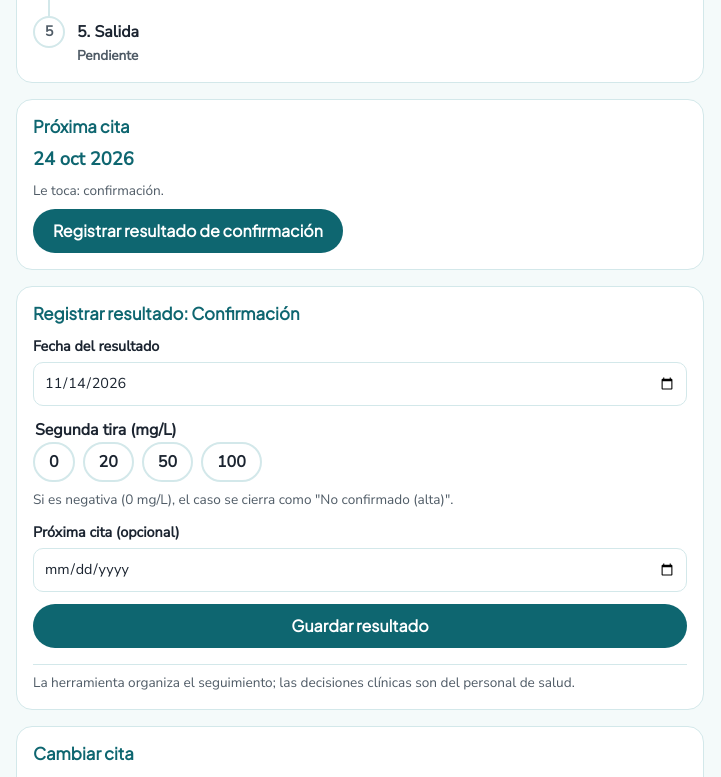
Ficha: ruta del caso, próxima cita y recordatorio › la línea de tiempo se actualiza al cerrar el caso con alta
(page scrolled)
Expected: the heading "Registrar resultado: Confirmación" is shown, 33,303 -> 300,324
Type "2026-11-01" into the date field labelled "Fecha del resultado" at (360, 384), box 33,362 -> 687,406
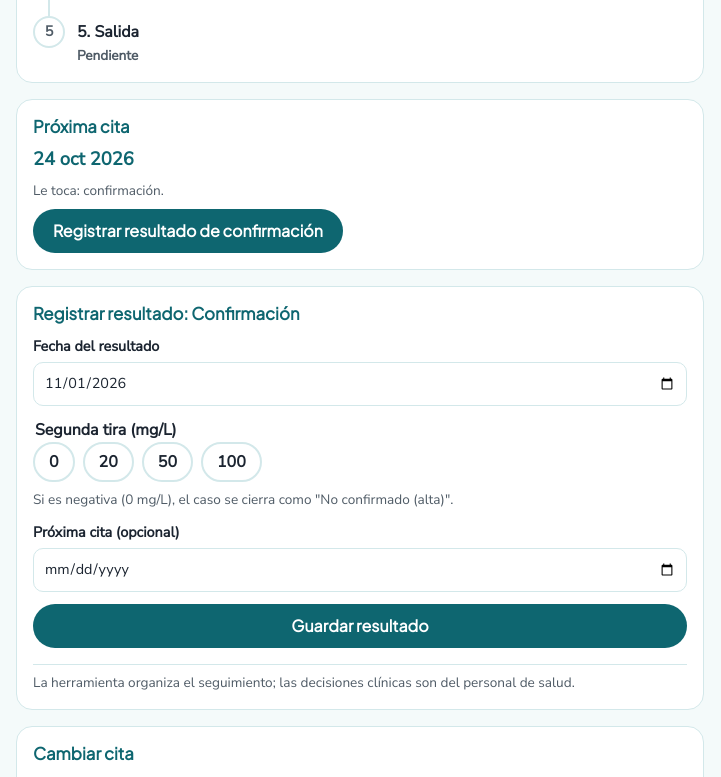
Click the button "0" at (54, 462), box 33,442 -> 75,482
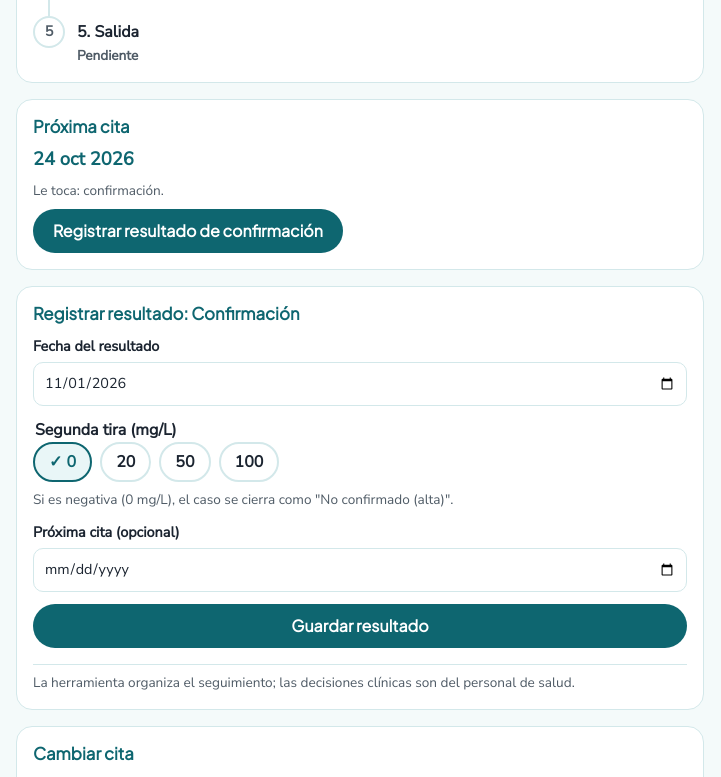
Click the button "Guardar resultado" at (360, 626), box 33,604 -> 687,648
(page scrolled)
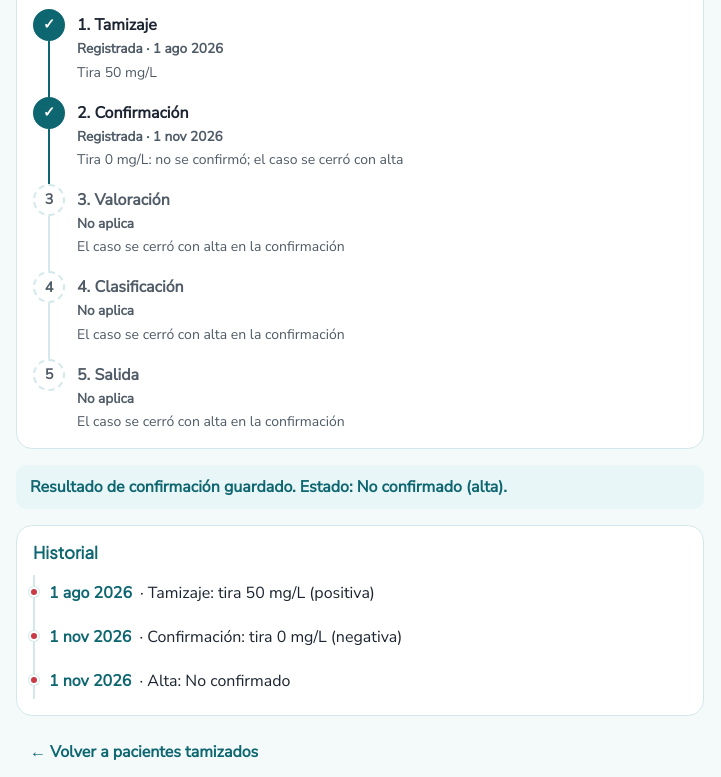
Result: the message "Resultado de confirmación guardado. Estado: No confirmado (alta)." is shown at 16,465 -> 704,509
Result: the text "Tira 0 mg/L: no se confirmó; el caso se cerró con alta" is shown at 77,150 -> 403,169
Result: the heading "Próxima cita" is gone
